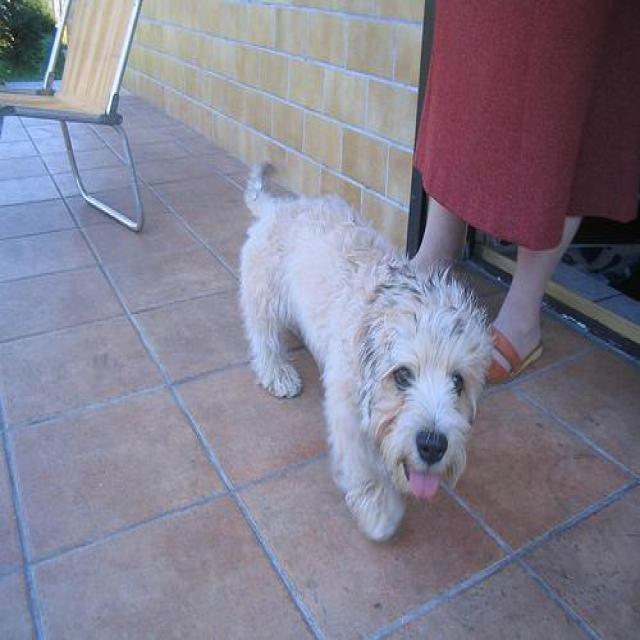dandie_dinmont: (234, 161, 497, 546)
